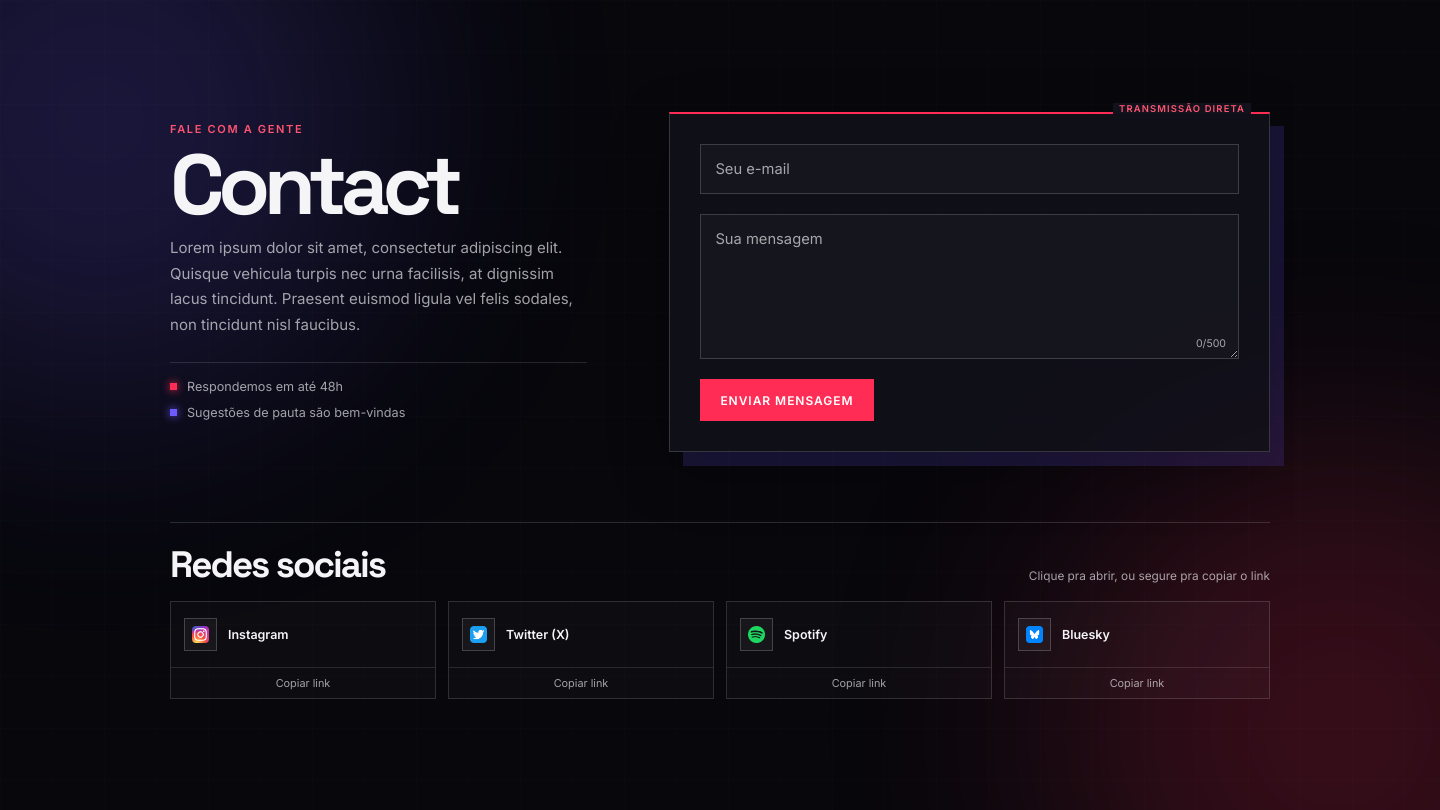
Test: <Contact /> › envia o formulário e mostra mensagem de sucesso
The image size is (1440, 810).
Type "fan@example.com" into the field labelled "Seu e-mail". click: (970, 169)
box: [700,144,1239,194]
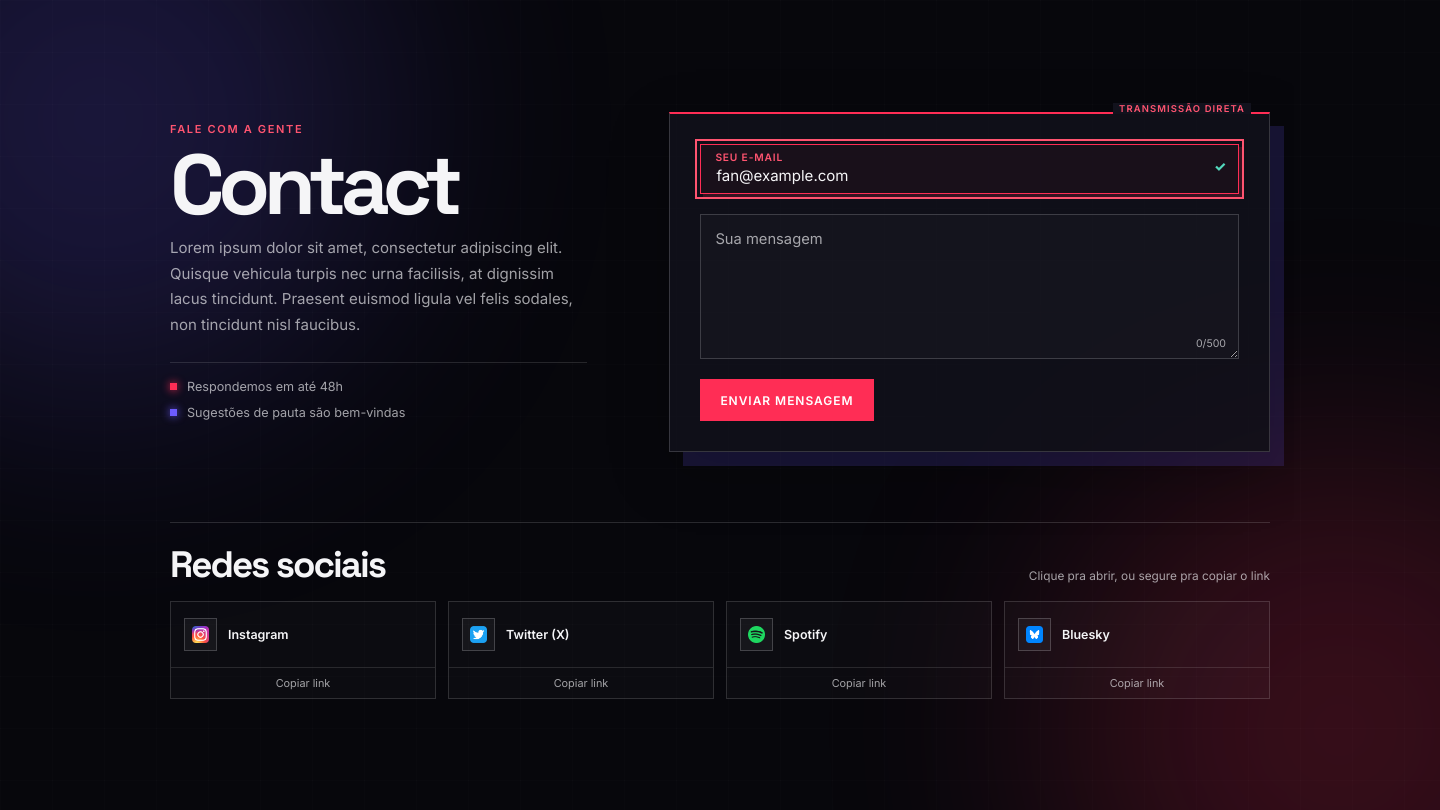
Type "Adorei o último episódio!" into the text box labelled "Sua mensagem". click: (970, 286)
box: [700,214,1239,359]
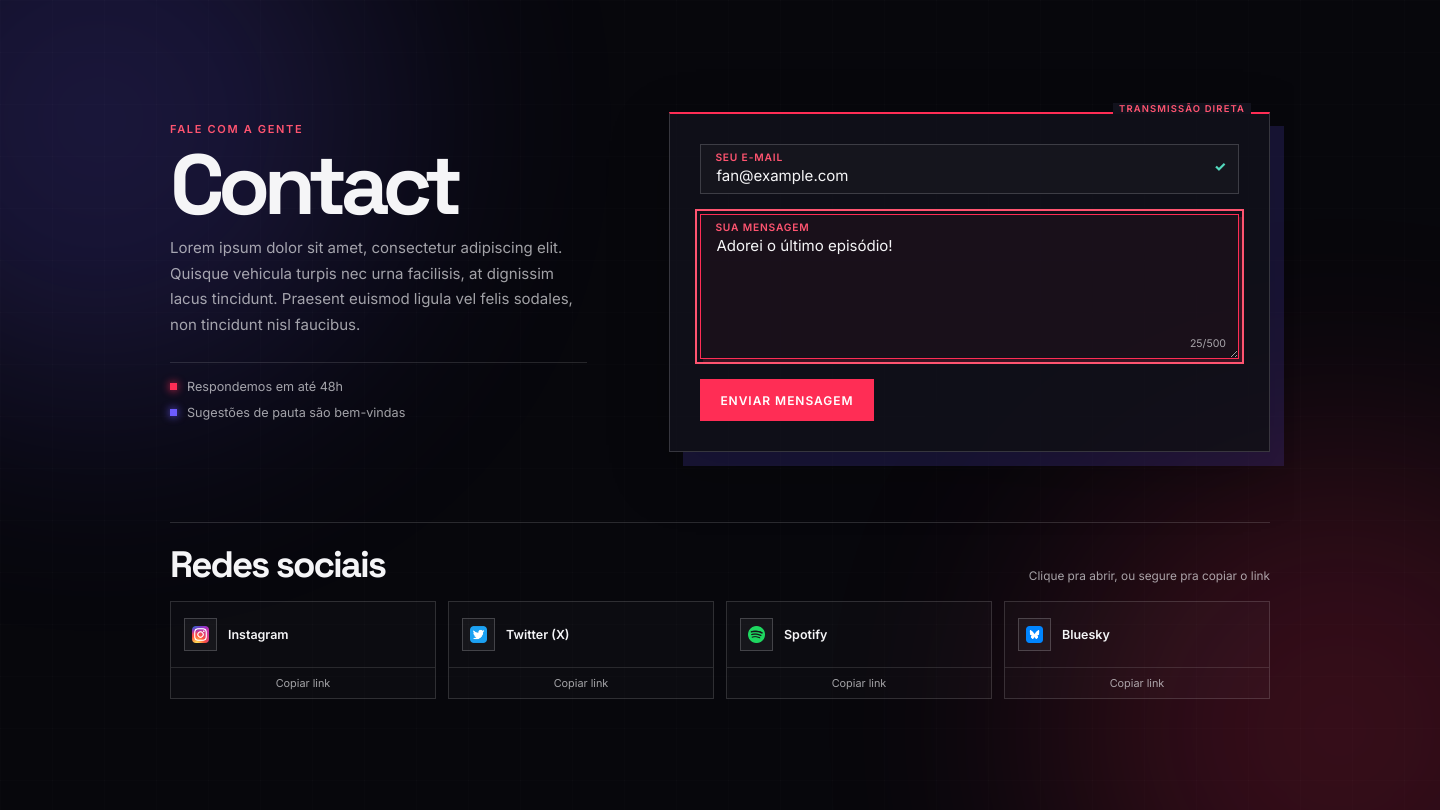
Click the button "Enviar mensagem". click: (787, 400)
box: [700,379,874,421]
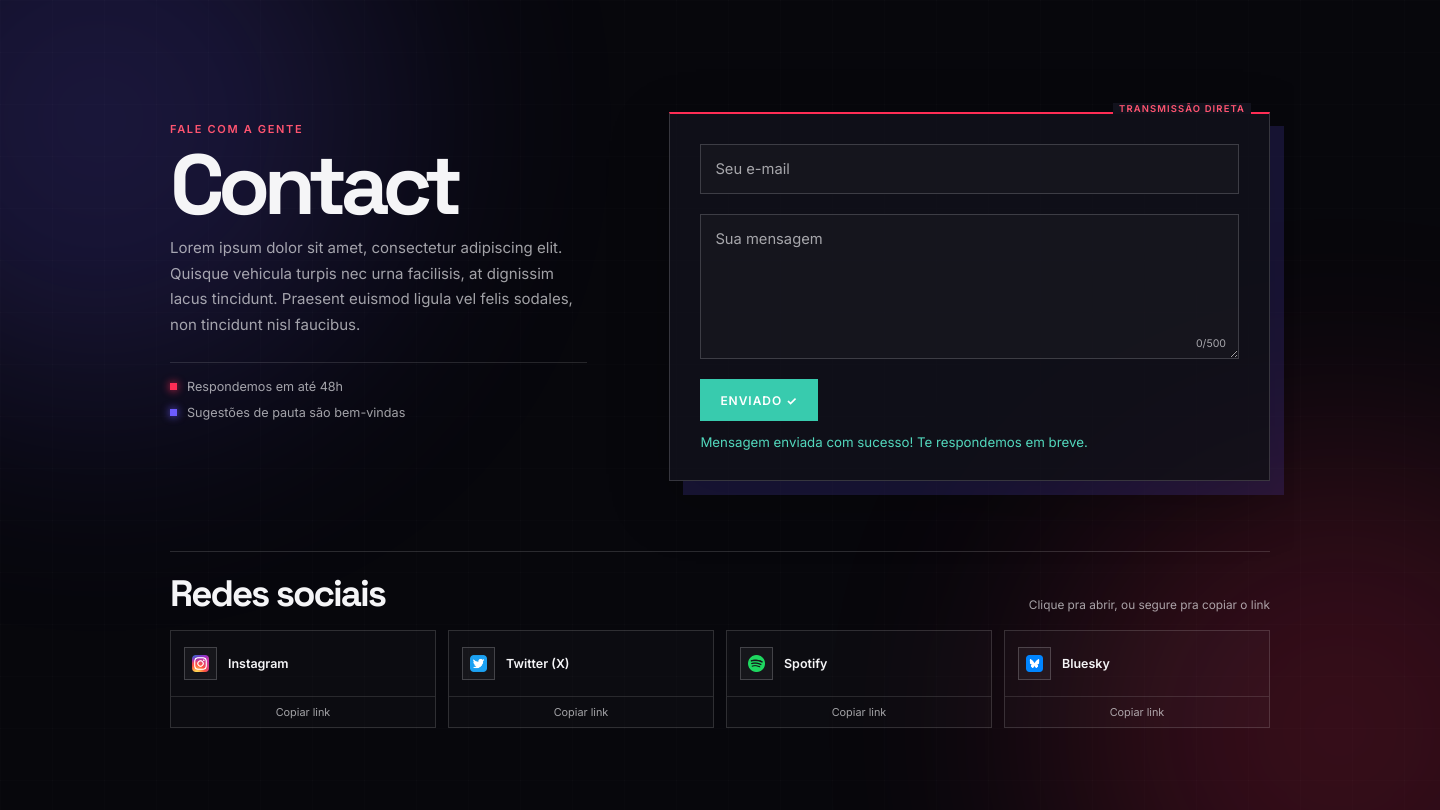
Result: the text "Mensagem enviada com sucesso! Te respondemos em breve." is shown at [700,434,1088,450]
Result: the field labelled "Seu e-mail" is empty at [700,144,1239,194]
Result: the text box labelled "Sua mensagem" is empty at [700,214,1239,359]
